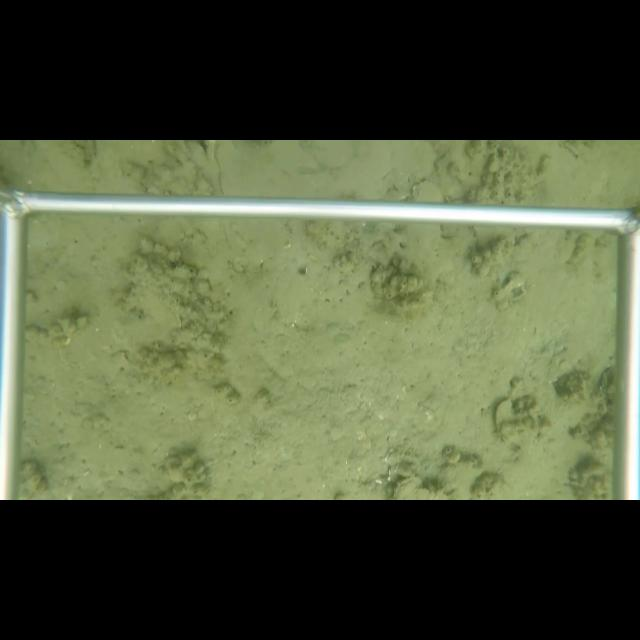Oyster-Closed: (494, 394, 516, 436), (389, 475, 424, 499)
Oyster-Open: (186, 141, 214, 166)
